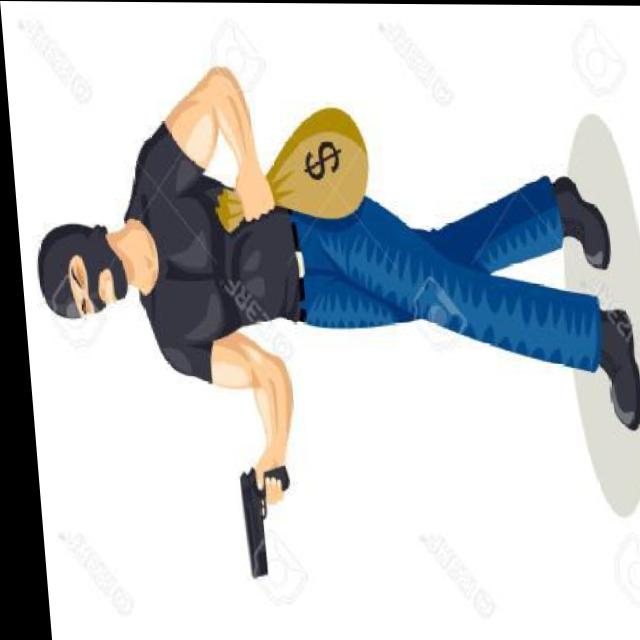handgun: (221, 447, 299, 583)
